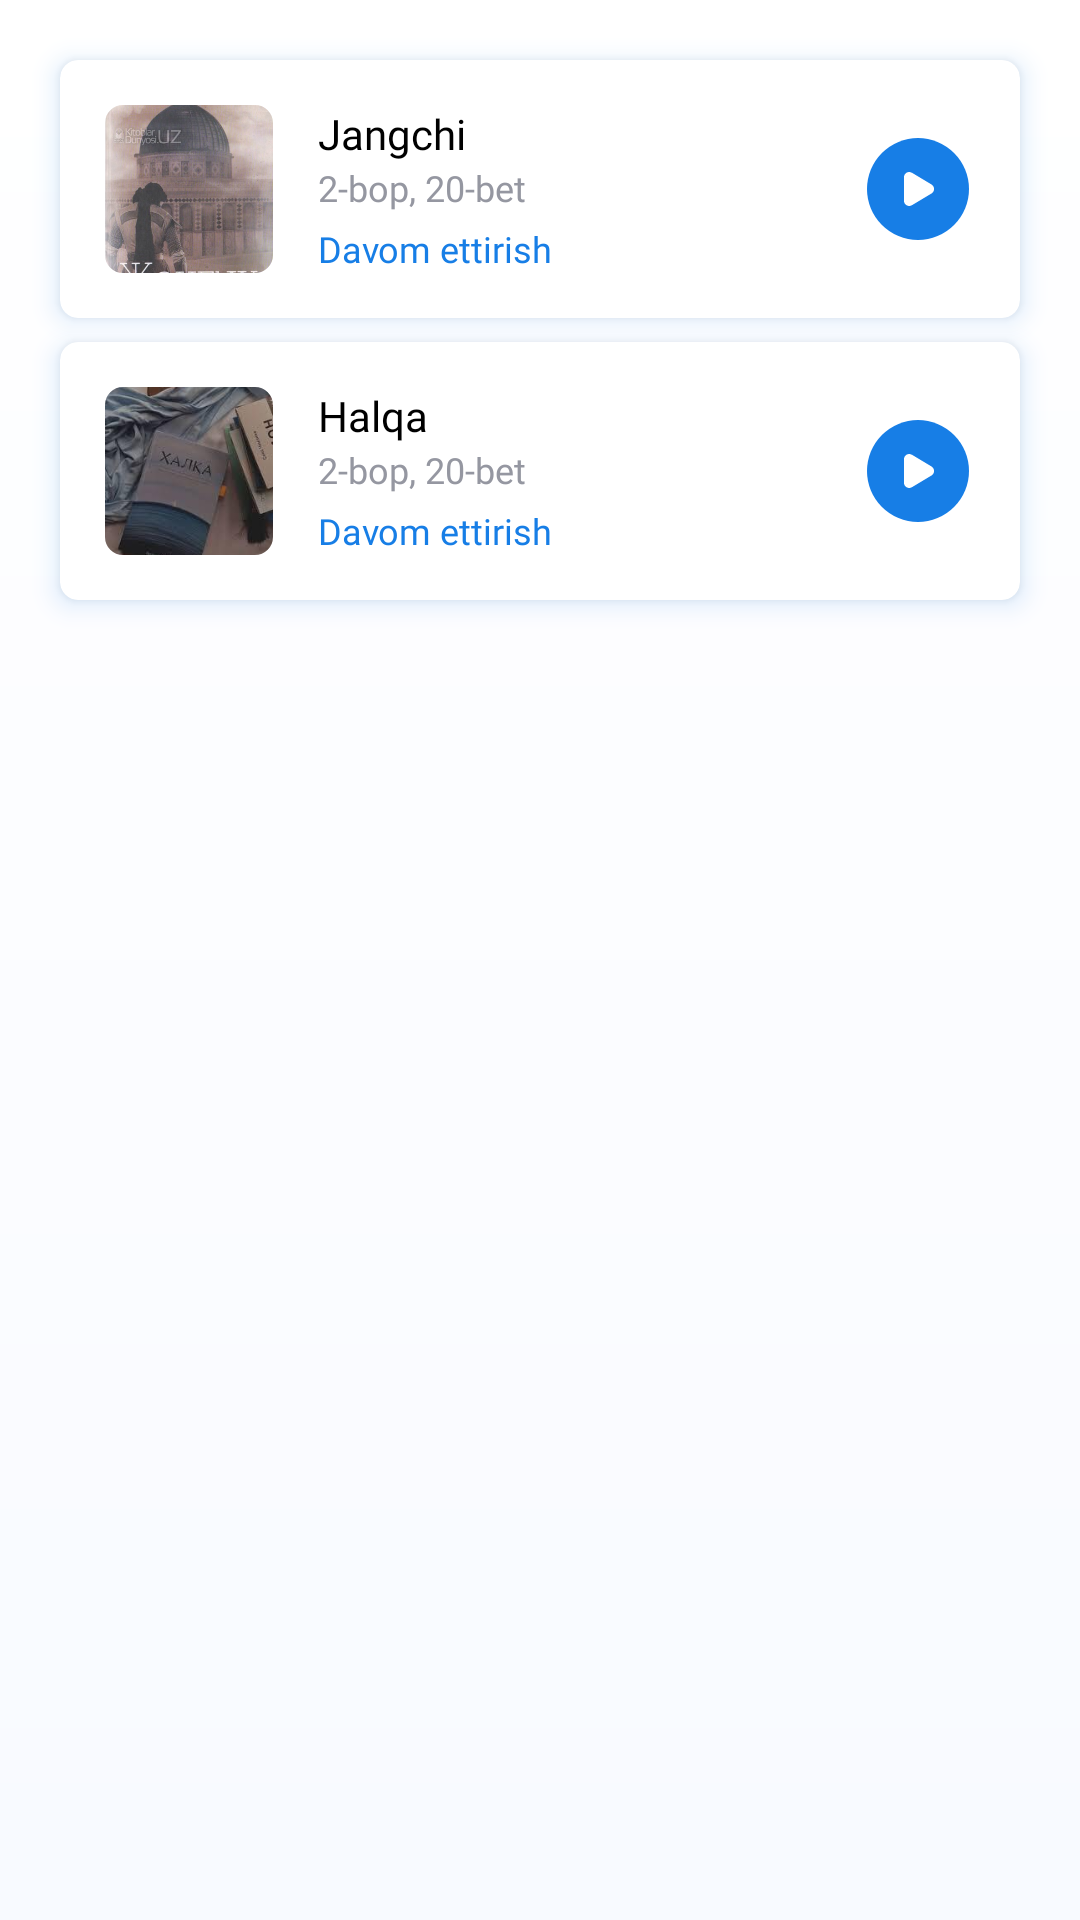

Named icons in this screenshot (1080 x 1920) and their bounding boxes, (x1, y1, x2, y2):
play: (867, 138, 969, 240), (867, 420, 969, 522)
